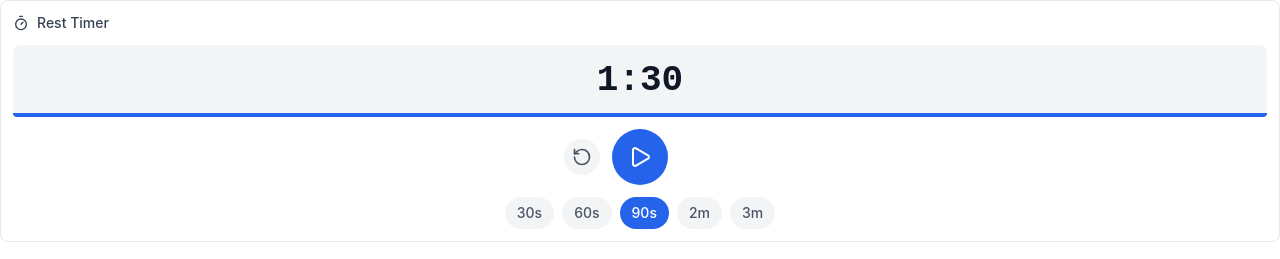
it: RestTimer › should count down when running
Start the timer
Click the button named "Start timer": (640, 157) [612, 129, 668, 185]
Wait 10000 ms
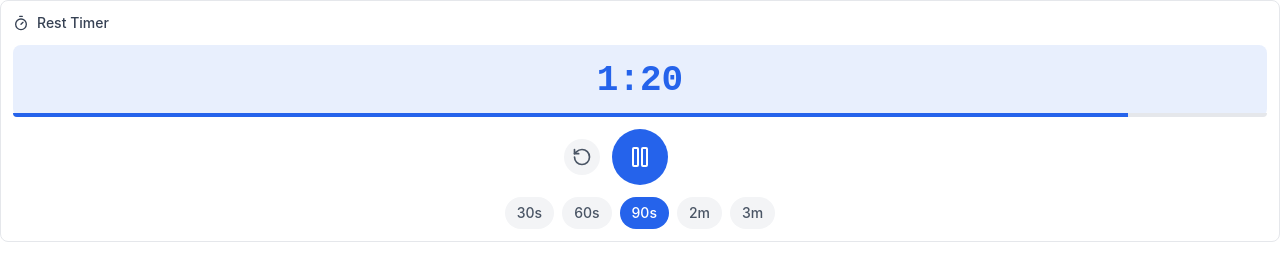
Expected: the text "1:20" is shown, [13, 45, 1267, 117]
